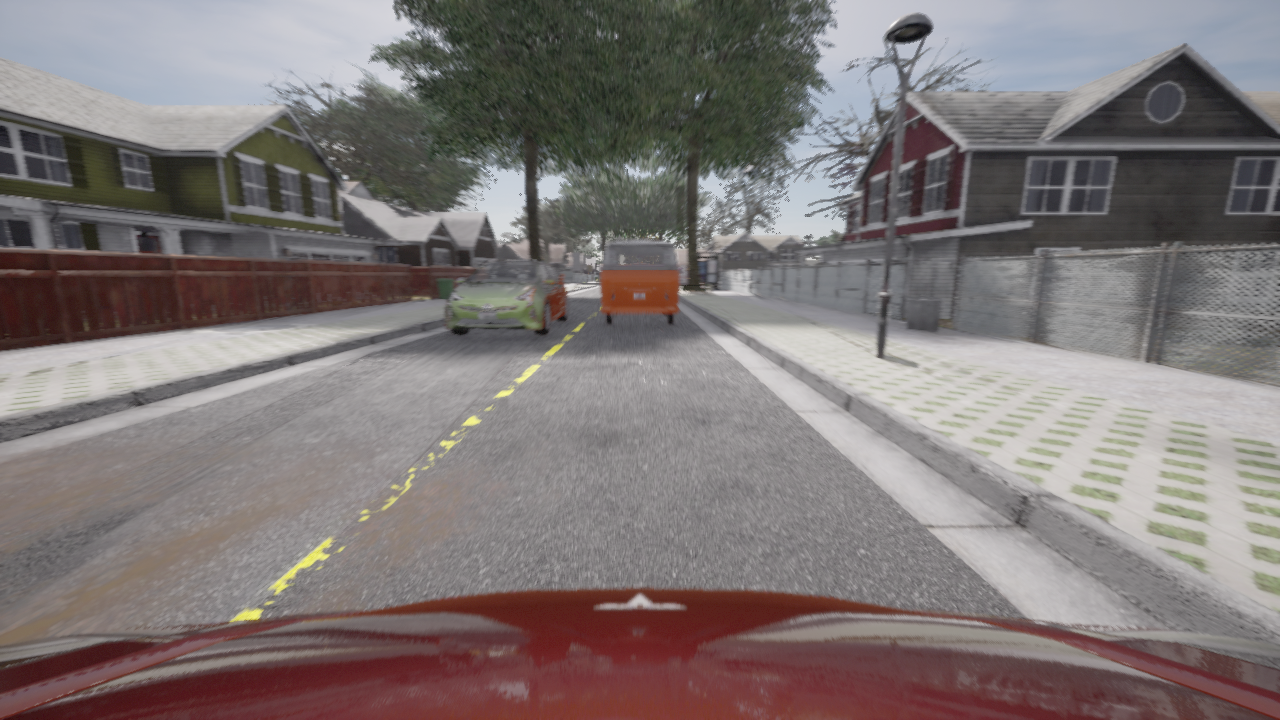cyclist: (0, 588, 1279, 719), (444, 259, 568, 335), (601, 240, 678, 324), (678, 266, 686, 283)
